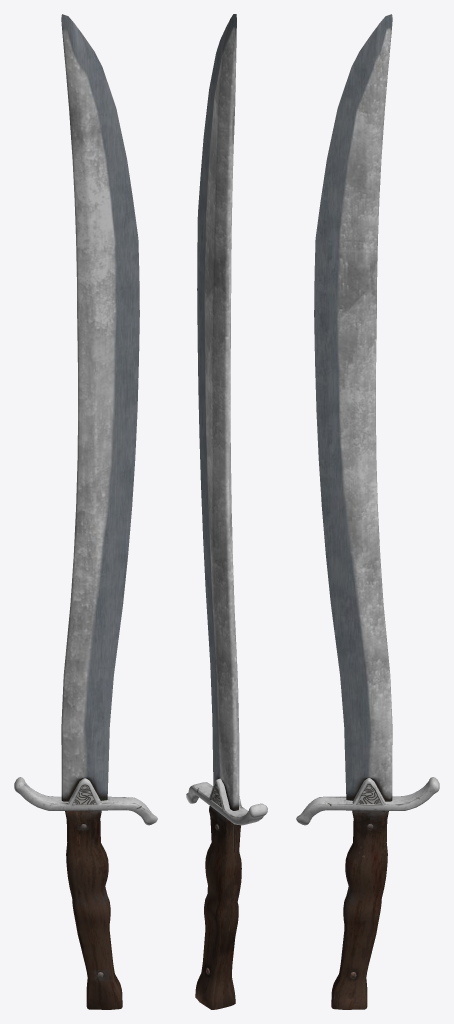
File: silas_cutlass_saber.glb
The picture shows the model from 3 angles, left to right: view 1: azimuth 90°, elevation 25°; view 2: azimuth 210°, elevation 25°; view 3: azimuth 270°, elevation 25°; orthographic projection.
Parts seen in each view (by area): view 1: wooden_handle_saber; view 2: wooden_handle_saber; view 3: wooden_handle_saber.
Part boxes in pixels (box(x1,y1,x2,y2)): wooden_handle_saber: box(14, 14, 157, 1009); wooden_handle_saber: box(186, 14, 267, 1009); wooden_handle_saber: box(296, 14, 439, 1009).
Bounding box in the file's own units: 0.0257 × 0.9355 × 0.1228.
Materials: 1 (1 with a texture image).
